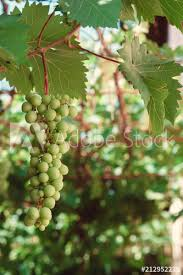grapes: (23, 86, 65, 242)
